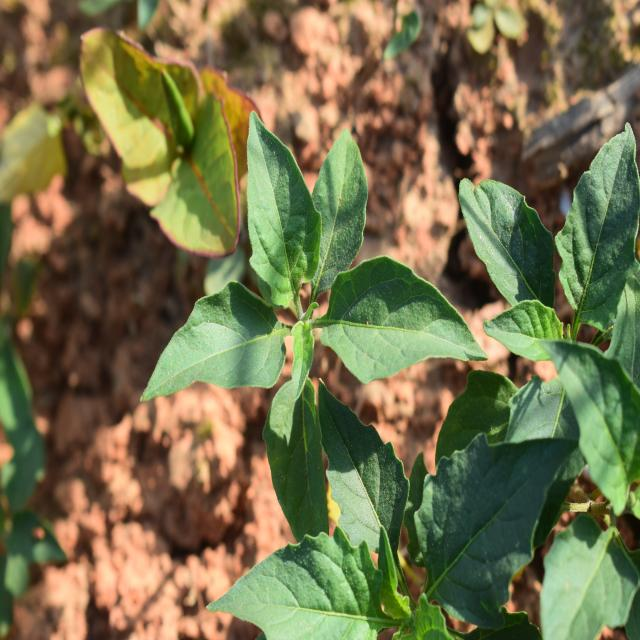Black_nightshade: (178, 134, 458, 459), (213, 430, 568, 626), (467, 161, 640, 555)
